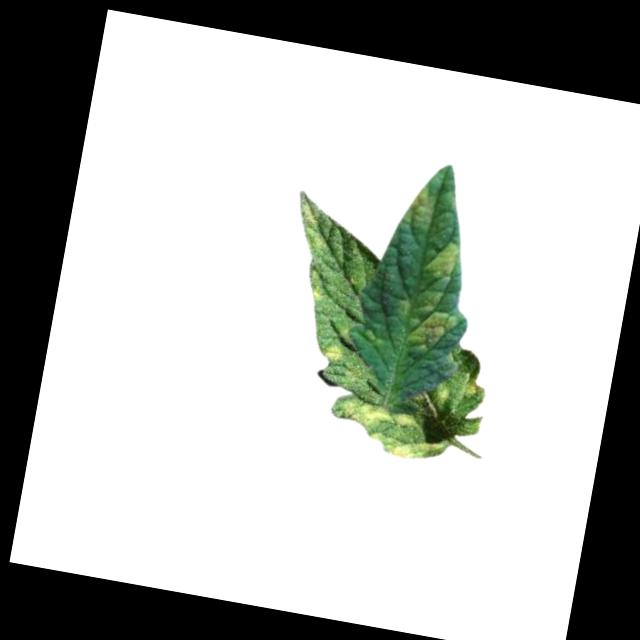Leaf_Mold: (332, 395, 447, 466), (398, 303, 454, 361), (421, 234, 464, 288), (399, 182, 437, 233), (321, 337, 348, 367)
